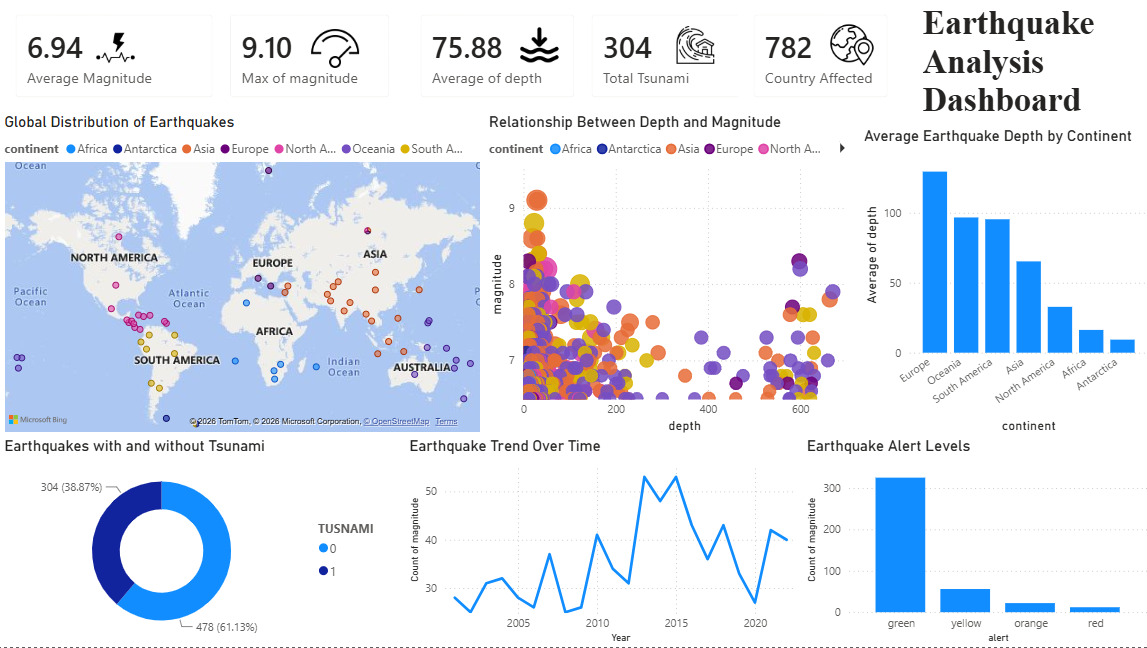

Layout of this report page (visuals, bound fields, positions):
{"tool":"powerbi","page":{"name":"Earthquake Analysis Dashboard","canvas":[1280,720],"ordinal":0},"visuals":[{"type":"map","title":"Global Distribution of Earthquakes","fields":{"Category":["Sheet1.country"],"Series":["Sheet1.continent"]},"box":[0,126.7,538.3,360],"z":0},{"type":"cardVisual","fields":{"Data":["Avg(Sheet1.magnitude)"]},"box":[0,0,253.3,126.7],"z":1000},{"type":"cardVisual","fields":{"Data":["Max(Sheet1.magnitude)"]},"box":[238.3,0,211.7,126.7],"z":2000},{"type":"cardVisual","fields":{"Data":["Avg(Sheet1.depth)"]},"box":[450,0,205,126.7],"z":3000},{"type":"cardVisual","fields":{"Data":["Sum(Sheet1.TUSNAMI)"]},"box":[640,0,201.7,126.7],"z":4000},{"type":"donutChart","title":"Earthquakes with and without Tsunami","fields":{"Y":["CountNonNull(Sheet1.magnitude)"],"Category":["Sheet1.TUSNAMI"]},"box":[0,486.7,438.3,233.3],"z":5000},{"type":"clusteredColumnChart","title":"Earthquake Alert Levels","fields":{"Category":["Sheet1.alert"],"Y":["CountNonNull(Sheet1.magnitude)"]},"box":[891.7,486.7,388.3,233.3],"z":6000},{"type":"lineChart","title":"Earthquake Trend Over Time","fields":{"Category":["Sheet1.date_time.Variation.Date Hierarchy.Year","Sheet1.date_time.Variation.Date Hierarchy.Quarter","Sheet1.date_time.Variation.Date Hierarchy.Month","Sheet1.date_time.Variation.Date Hierarchy.Day"],"Y":["CountNonNull(Sheet1.magnitude)"]},"box":[450,486.7,441.7,233.3],"z":7000},{"type":"scatterChart","title":"Relationship Between Depth and Magnitude","fields":{"X":["Sheet1.depth"],"Y":["Sheet1.magnitude"],"Size":["Sum(Sheet1.Significance score)"],"Series":["Sheet1.continent"]},"box":[538.3,126.7,416.7,360],"z":8000},{"type":"columnChart","title":"Average Earthquake Depth by Continent","fields":{"Category":["Sheet1.continent"],"Y":["Avg(Sheet1.depth)"]},"box":[955,141.7,325,345],"z":9000},{"type":"textbox","box":[1020,0,260,141.7],"z":10000},{"type":"image","box":[558.3,25,81.7,51.7],"z":11000},{"type":"image","box":[345,28.3,55,53.3],"z":12000},{"type":"image","box":[88.3,31.7,80,45],"z":13000},{"type":"cardVisual","fields":{"Data":["CountNonNull(Sheet1.country)"]},"box":[820,0,183.3,126.7],"z":14000},{"type":"image","box":[741.7,30,61.7,41.7],"z":15000},{"type":"image","box":[911.7,25,70,51.7],"z":16000}]}

Visuals, with their boxes in screenshot pixels (x1, y1, x2, y2), scaled from the page's 1280x720 canvas onto the 1147x648 screenshot:
"Global Distribution of Earthquakes" map: l=0, t=114, r=482, b=438
cardVisual - Avg(Sheet1.magnitude): l=0, t=0, r=227, b=114
cardVisual - Max(Sheet1.magnitude): l=214, t=0, r=403, b=114
cardVisual - Avg(Sheet1.depth): l=403, t=0, r=587, b=114
cardVisual - Sum(Sheet1.TUSNAMI): l=574, t=0, r=754, b=114
"Earthquakes with and without Tsunami" donutChart: l=0, t=438, r=393, b=647
"Earthquake Alert Levels" clusteredColumnChart: l=799, t=438, r=1146, b=647
"Earthquake Trend Over Time" lineChart: l=403, t=438, r=799, b=647
"Relationship Between Depth and Magnitude" scatterChart: l=482, t=114, r=856, b=438
"Average Earthquake Depth by Continent" columnChart: l=856, t=128, r=1146, b=438
textbox: l=914, t=0, r=1146, b=128
image: l=500, t=22, r=574, b=69
image: l=309, t=25, r=358, b=73
image: l=79, t=29, r=151, b=69
cardVisual - CountNonNull(Sheet1.country): l=735, t=0, r=899, b=114
image: l=665, t=27, r=720, b=65
image: l=817, t=22, r=880, b=69
